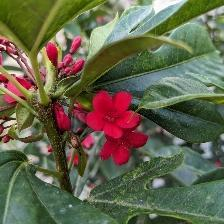jatropha: (85, 88, 143, 143)
